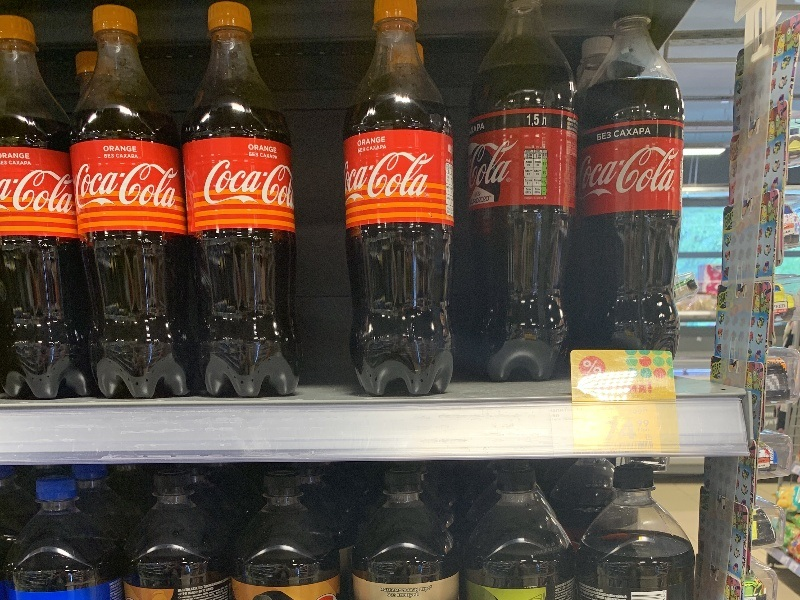lemonade: (57, 6, 198, 409), (189, 1, 315, 413), (333, 1, 459, 413), (460, 1, 578, 397), (570, 1, 695, 358), (1, 17, 94, 419)
